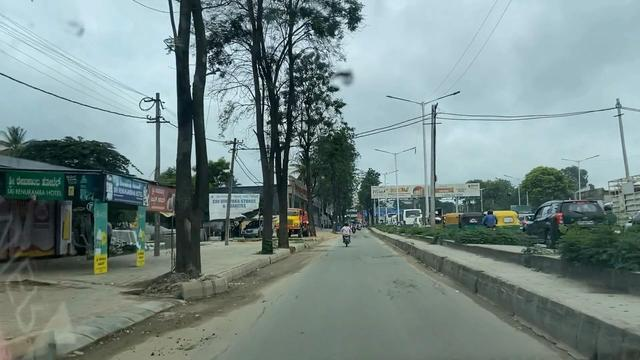RoadDamages: (161, 321, 228, 357), (382, 267, 436, 311)
